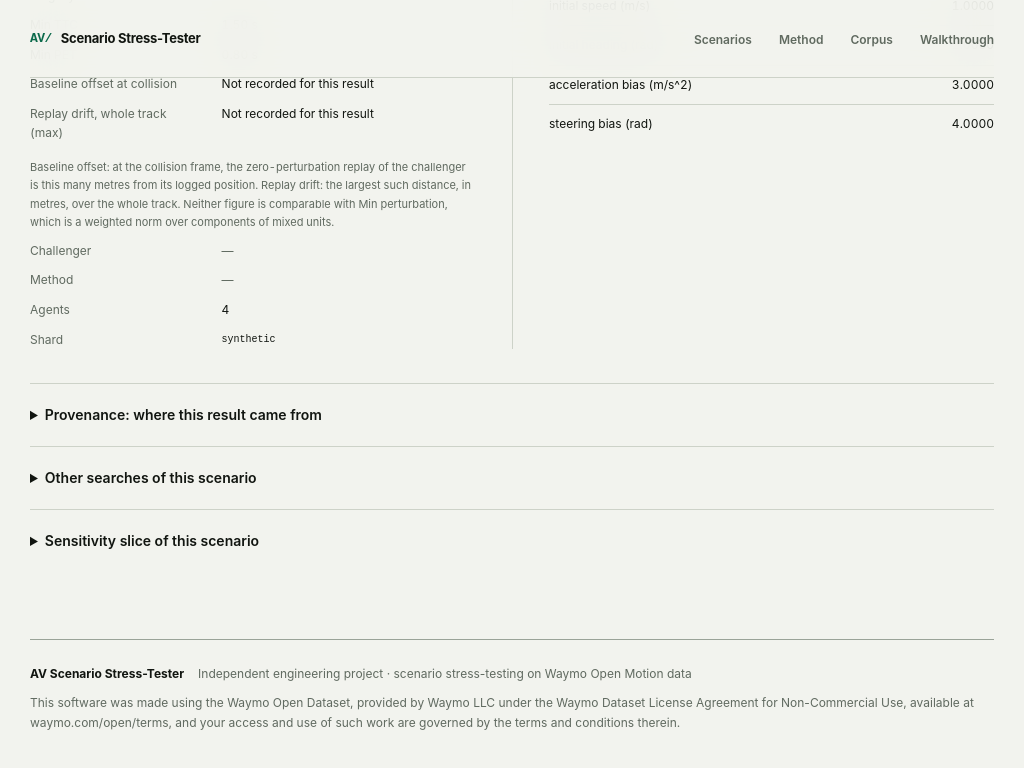
what it says › says there is none recorded, and draws nothing, for an empty list
(page scrolled)
Click the heading "Sensitivity slice of this scenario" at (152, 540), box [45,532,259,548]
(page scrolled)
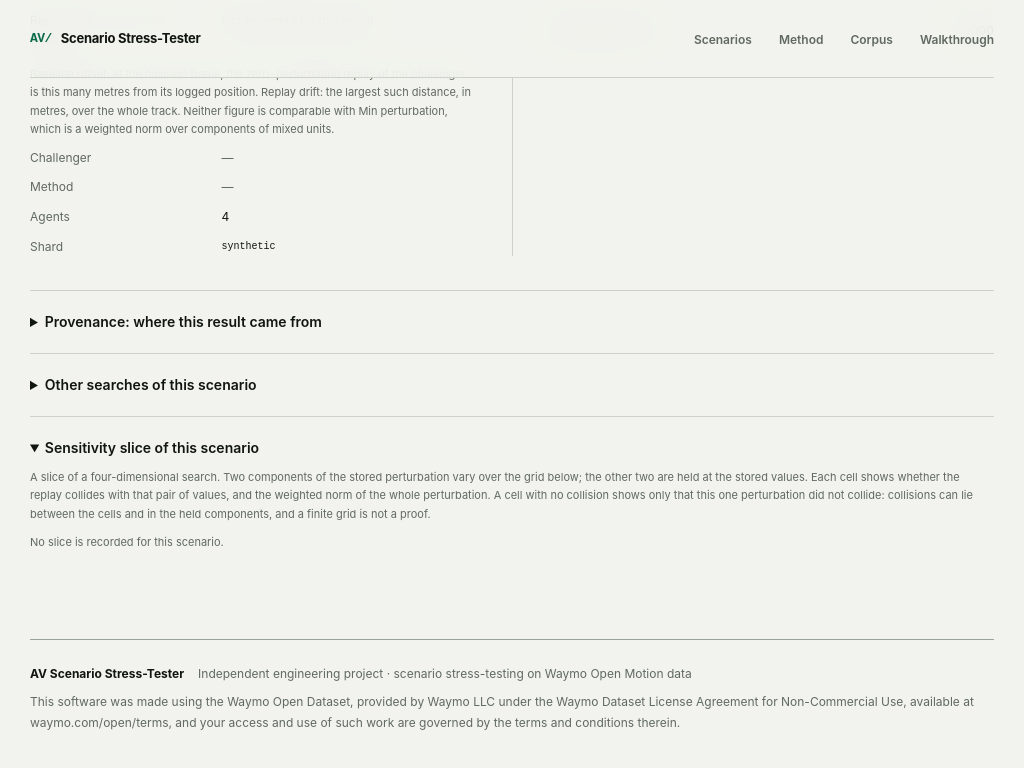
Expected: the text "No slice is recorded for this scenario." is shown, [30,535,224,549]
